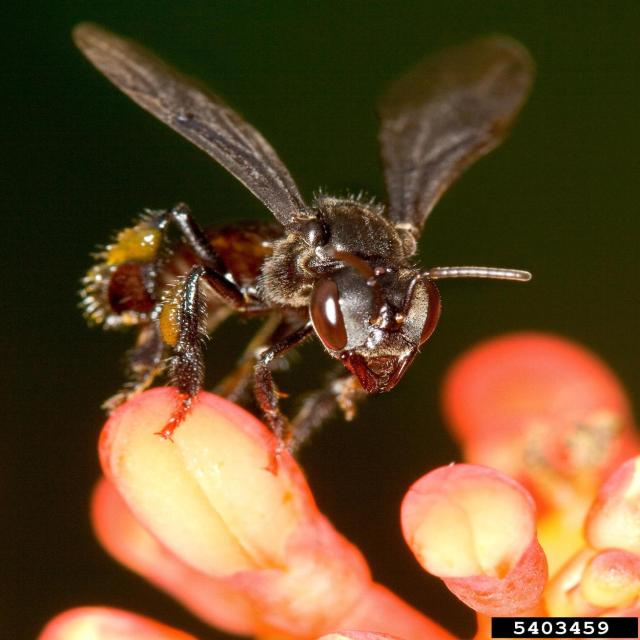Meliponula: (71, 19, 547, 467)
